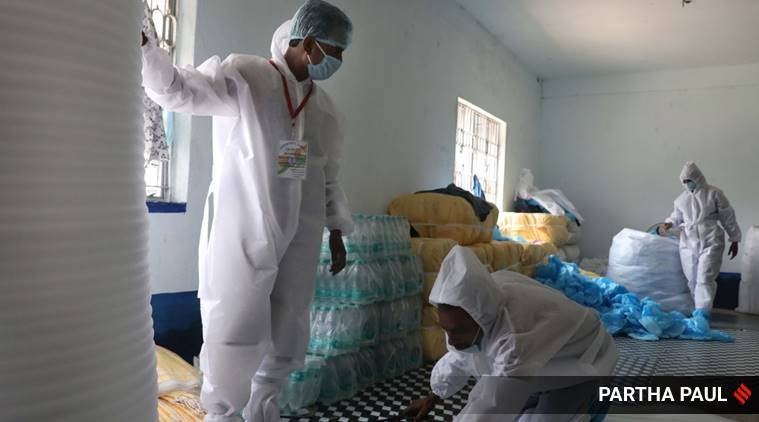Coverall: (142, 20, 358, 422), (426, 242, 621, 422), (658, 160, 743, 323)
mask_weared_incorrectly: (440, 317, 480, 359)
with_mask: (305, 44, 345, 83), (685, 180, 699, 196)
